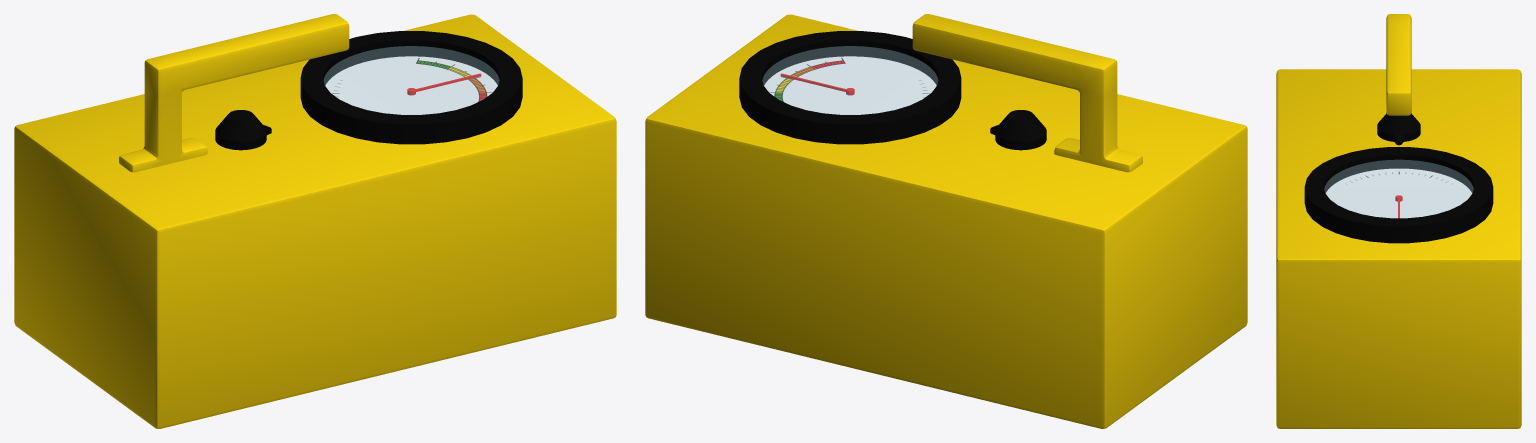
Rendered from geiger_counter.FBX.
3 renders of one model, left to right at view 1: azimuth 30°, elevation 25°; view 2: azimuth 150°, elevation 25°; view 3: azimuth 270°, elevation 25°, orthographic. The views are drawn at different scales.
Parts seen in each view (by area): view 1: Geiger_Device, Geiger_Meter, Geiger_Grip, Geiger_Glass, Geiger_Clock, Geiger_Button; view 2: Geiger_Device, Geiger_Meter, Geiger_Grip, Geiger_Glass, Geiger_Clock, Geiger_Button; view 3: Geiger_Device, Geiger_Meter, Geiger_Glass, Geiger_Clock, Geiger_Grip, Geiger_Button.
Part boxes in pixels (<box>): Geiger_Device: <box>14,14,616,428</box>; Geiger_Meter: <box>300,31,522,144</box>; Geiger_Grip: <box>119,14,349,172</box>; Geiger_Glass: <box>324,46,499,114</box>; Geiger_Clock: <box>325,56,497,114</box>; Geiger_Button: <box>215,110,271,150</box>; Geiger_Device: <box>645,14,1247,428</box>; Geiger_Meter: <box>739,31,961,144</box>; Geiger_Grip: <box>912,14,1142,172</box>; Geiger_Glass: <box>762,46,937,114</box>; Geiger_Clock: <box>764,56,936,114</box>; Geiger_Button: <box>990,110,1046,150</box>; Geiger_Device: <box>1276,69,1521,428</box>; Geiger_Meter: <box>1304,147,1493,243</box>; Geiger_Glass: <box>1324,160,1473,217</box>; Geiger_Clock: <box>1325,168,1472,218</box>; Geiger_Grip: <box>1386,14,1411,115</box>; Geiger_Button: <box>1377,113,1420,145</box>.
Size of the model in its own units: 47.24 by 29.21 by 25.59.
3 materials, 3 textured.
